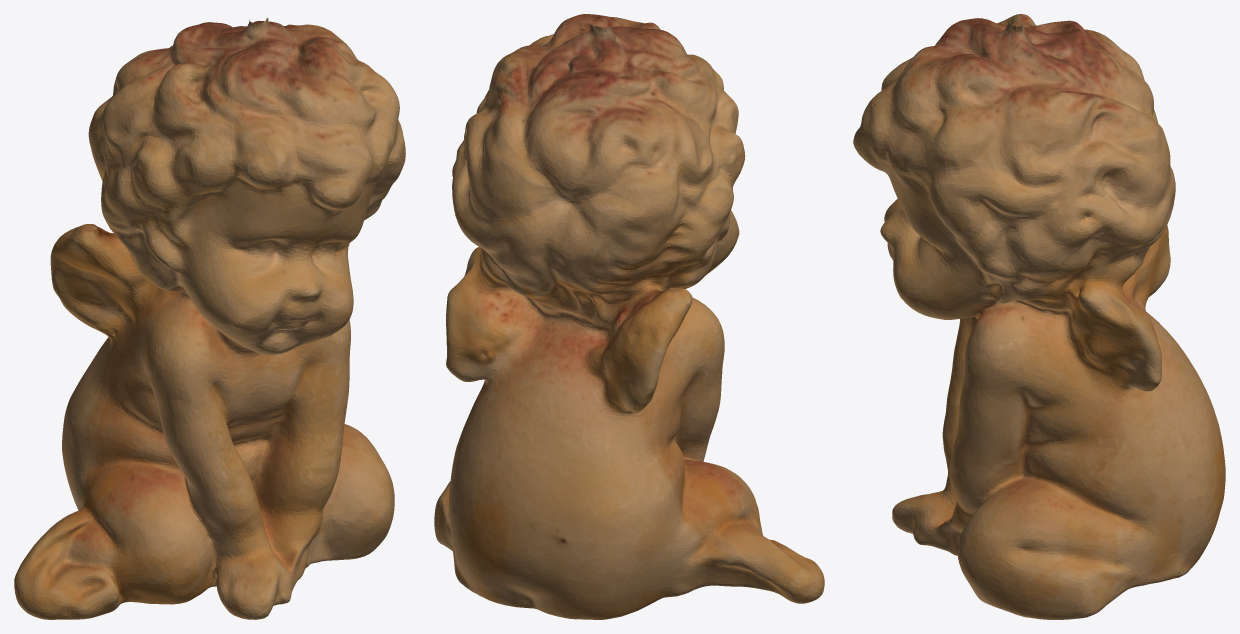
File: JPEG.glb
The picture shows the model from 3 angles, left to right: view 1: azimuth 30°, elevation 25°; view 2: azimuth 150°, elevation 25°; view 3: azimuth 270°, elevation 25°; orthographic projection. The views are drawn at different scales.
Bounding box in the file's own units: 0.0638 × 0.0891 × 0.0559.
Materials: 1 (1 with a texture image).
